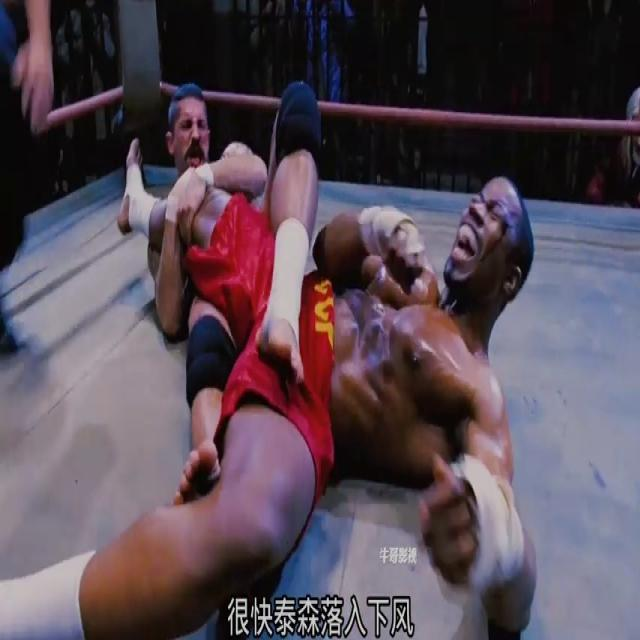fight: (0, 78, 554, 640)
